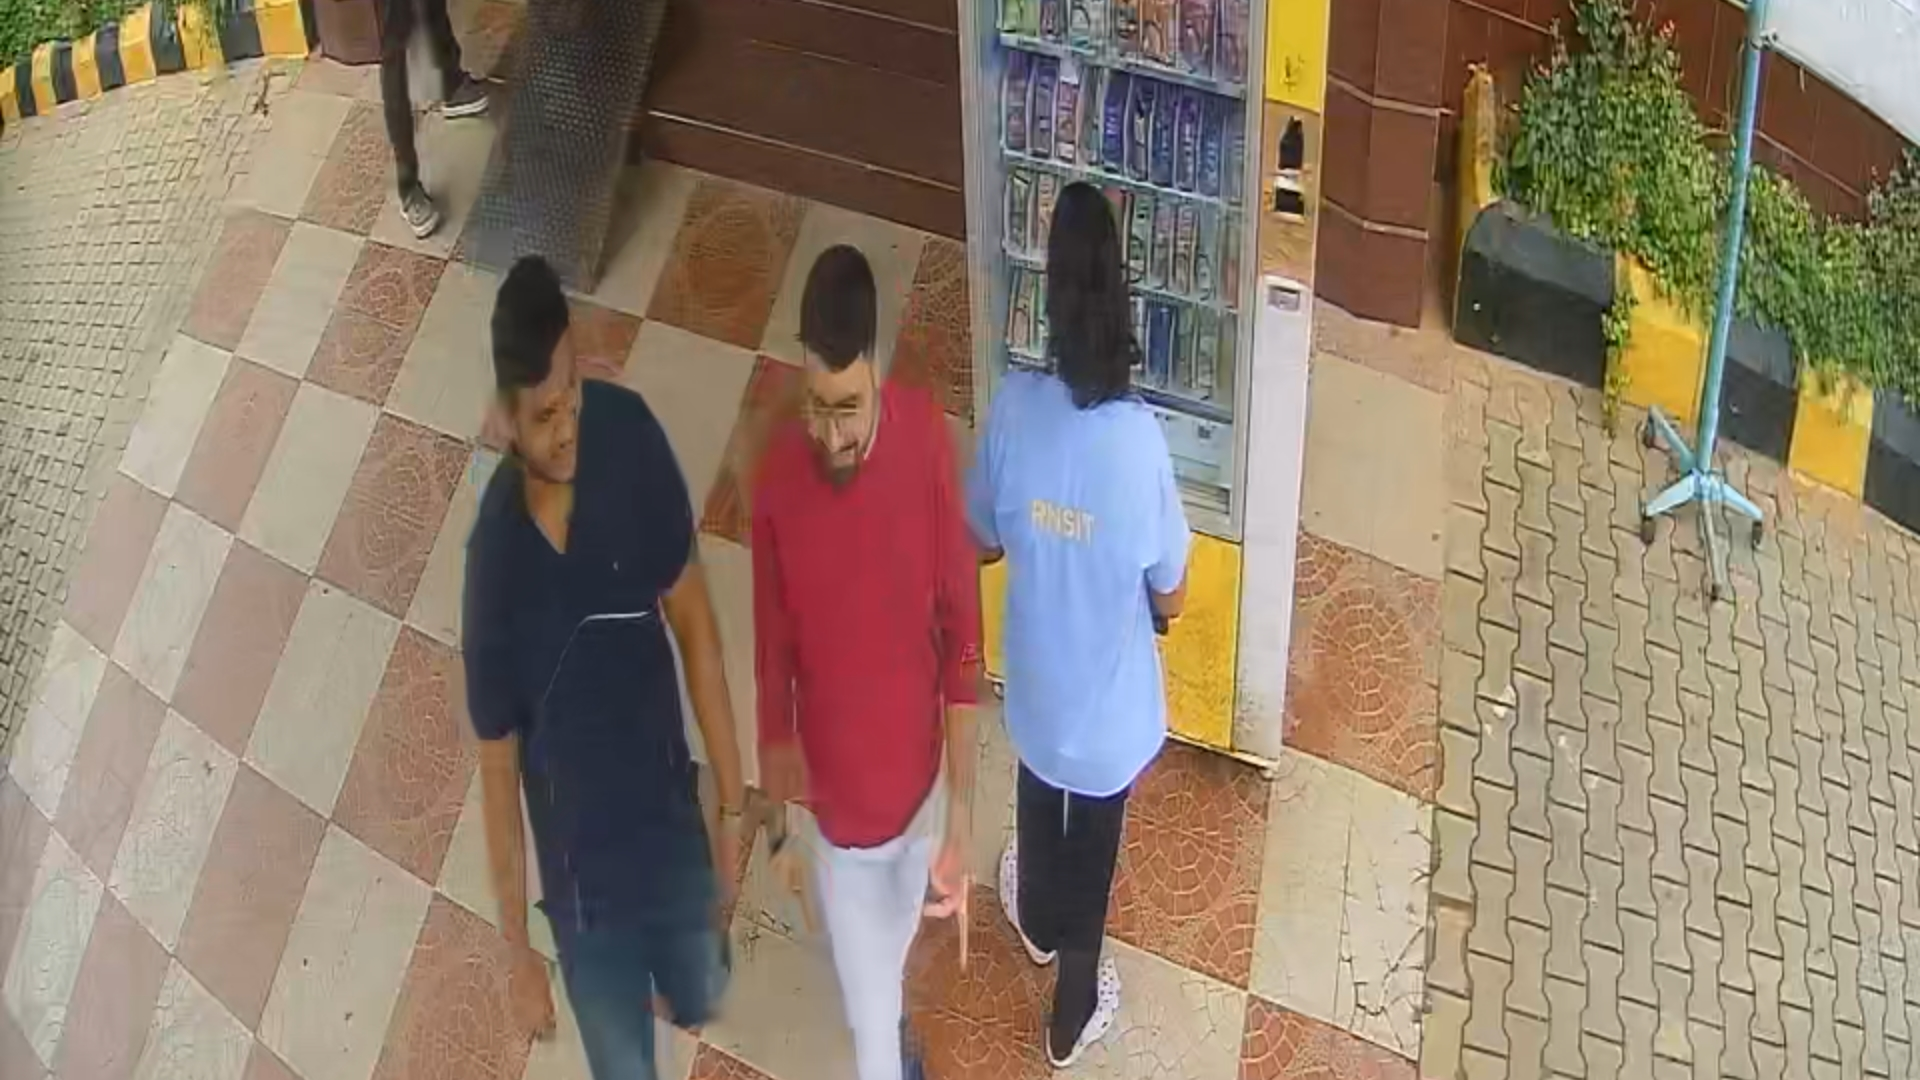intruder: (464, 229, 753, 1080), (737, 237, 978, 1080)
